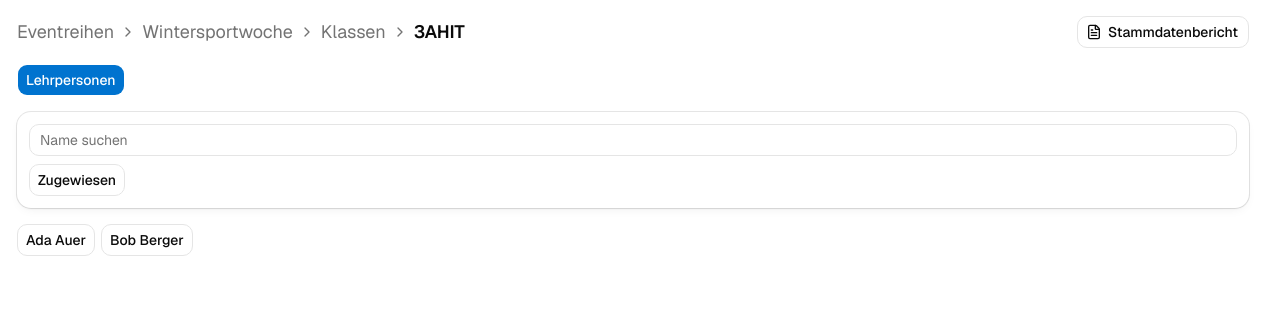
Test: ClassTeachersView › reports a refusal without pretending the press landed
Click the button "Ada Auer" at (56, 240), box left=24, top=230, right=88, bottom=250
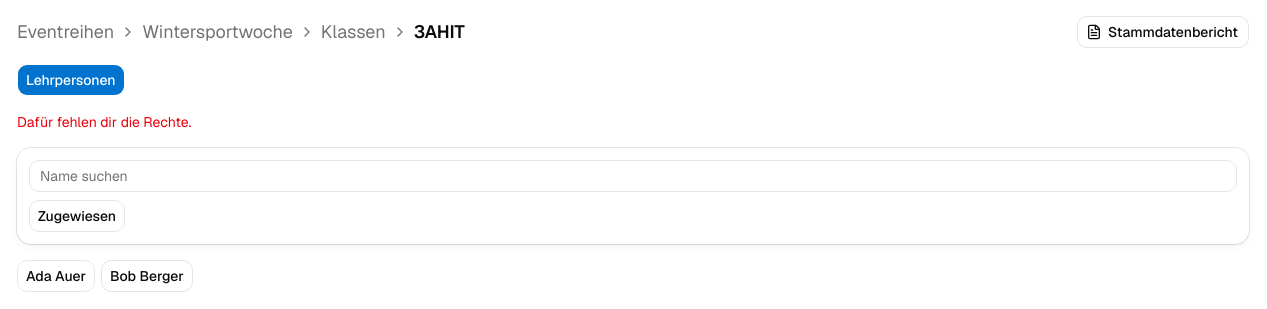
Expected: the message reads "Dafür fehlen dir die Rechte.", left=17, top=113, right=191, bottom=131
